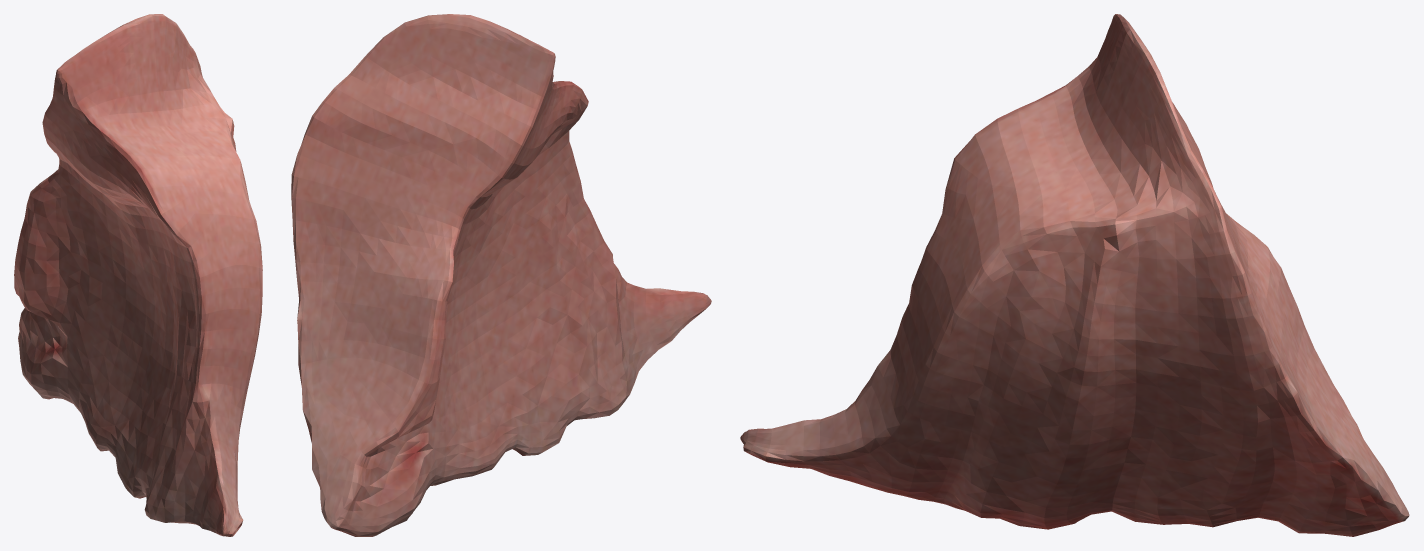
The model's file is L_lung_caudal_part_cranial_lung_lobe_LOW.glb.
The picture shows the model from 3 angles, left to right: view 1: azimuth 30°, elevation 25°; view 2: azimuth 150°, elevation 25°; view 3: azimuth 270°, elevation 25°; orthographic projection. The views are drawn at different scales.
Parts seen in each view (by area): view 1: L_lung_caudal_part_cranial_lung_lobe_LOW; view 2: L_lung_caudal_part_cranial_lung_lobe_LOW; view 3: L_lung_caudal_part_cranial_lung_lobe_LOW.
Boxes of the visible parts, left/top/right/bottom form: L_lung_caudal_part_cranial_lung_lobe_LOW: left=14, top=14, right=262, bottom=536; L_lung_caudal_part_cranial_lung_lobe_LOW: left=291, top=14, right=711, bottom=536; L_lung_caudal_part_cranial_lung_lobe_LOW: left=740, top=14, right=1409, bottom=536.
Bounding box in the file's own units: 0.00141 × 0.00298 × 0.00349.
Materials: 1 (1 with a texture image).
